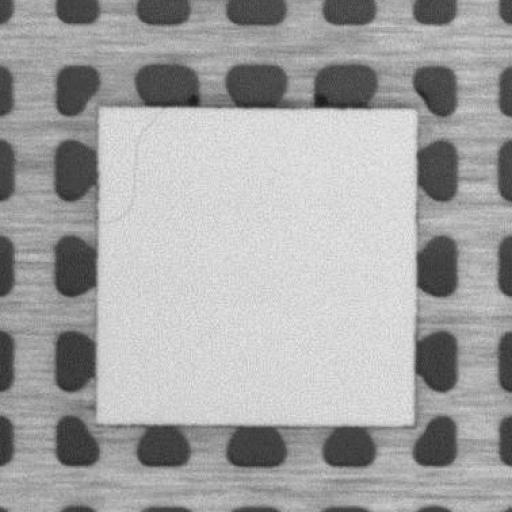DIE_CRACK: (98, 110, 162, 224)
